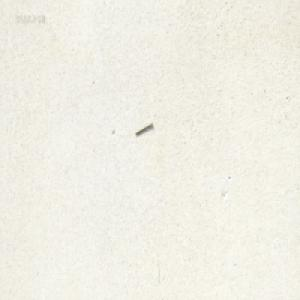Bolt: (134, 121, 152, 135)
